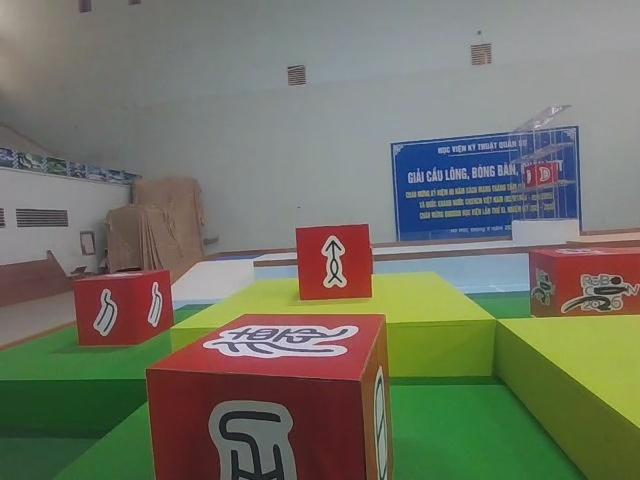R1: (527, 248, 640, 317)
R2 Fake: (146, 313, 391, 480)
R2 Real: (71, 269, 175, 348), (294, 224, 373, 301)
